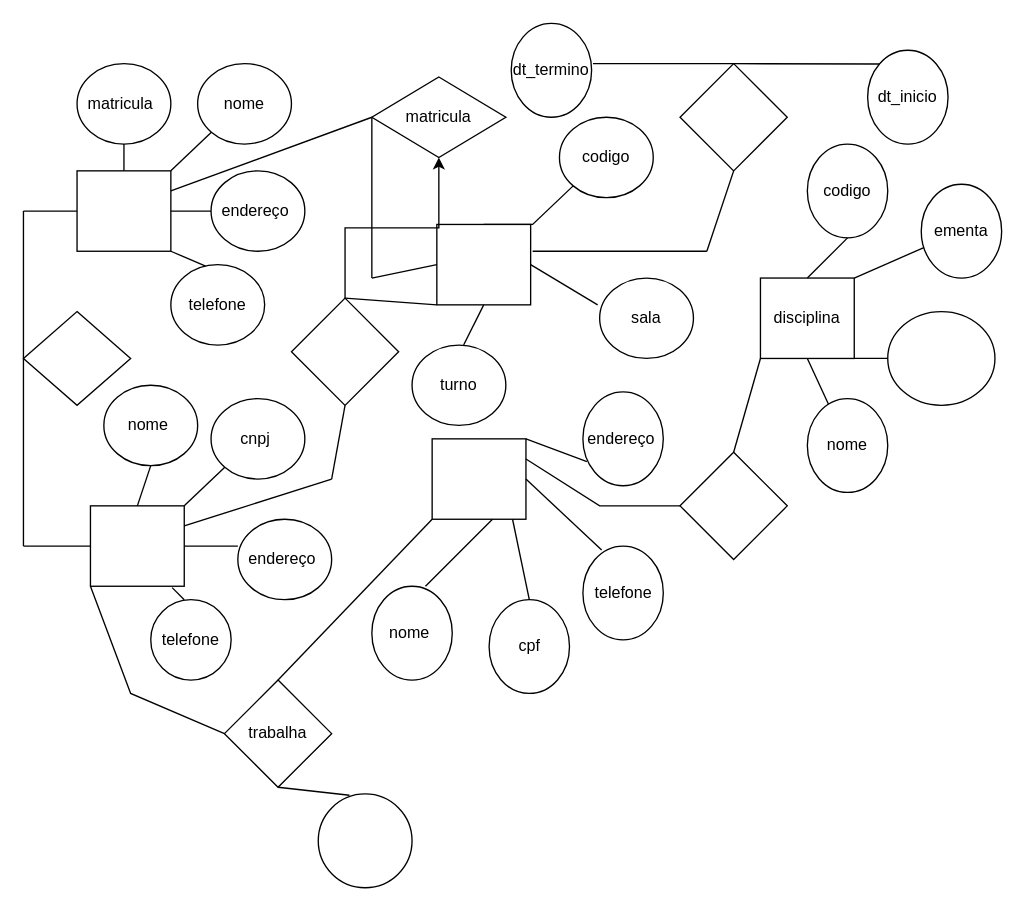
Image size: 1025x911. Some labels were removed from this diagram. Here are the shapes that lost their labels. From the top down, the centre of each, then its label:
At point (733, 116): "tem".
At point (123, 210): "aluno".
At point (483, 264): "turma".
At point (76, 357): "estuda".
At point (344, 351): "possui".
At point (940, 357): "carga_horaria".
At point (478, 478): "professor".
At point (733, 505): "ministra".
At point (136, 545): "escola".
At point (364, 840): "dt_admissao".
